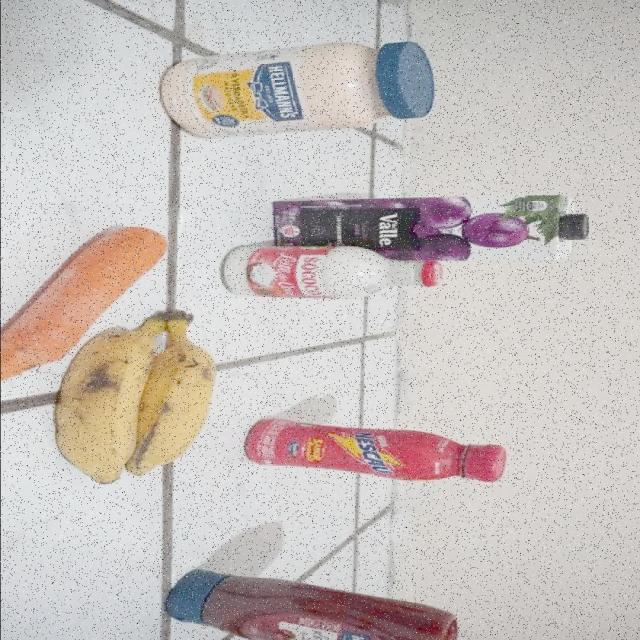Banana: (60, 316, 226, 489)
Carrot: (8, 219, 180, 313)
ChocolateMilk: (233, 417, 508, 483)
CoconutMilk: (224, 244, 448, 298)
Ketchup: (157, 560, 461, 640)
Mayonnaise: (162, 38, 438, 140)
